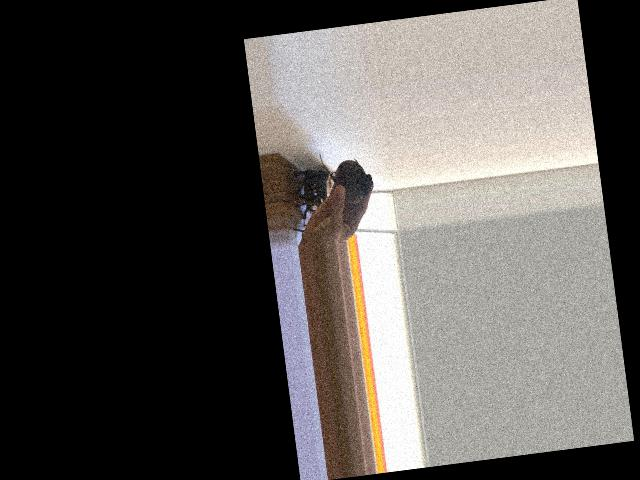beet: (319, 144, 375, 207)
